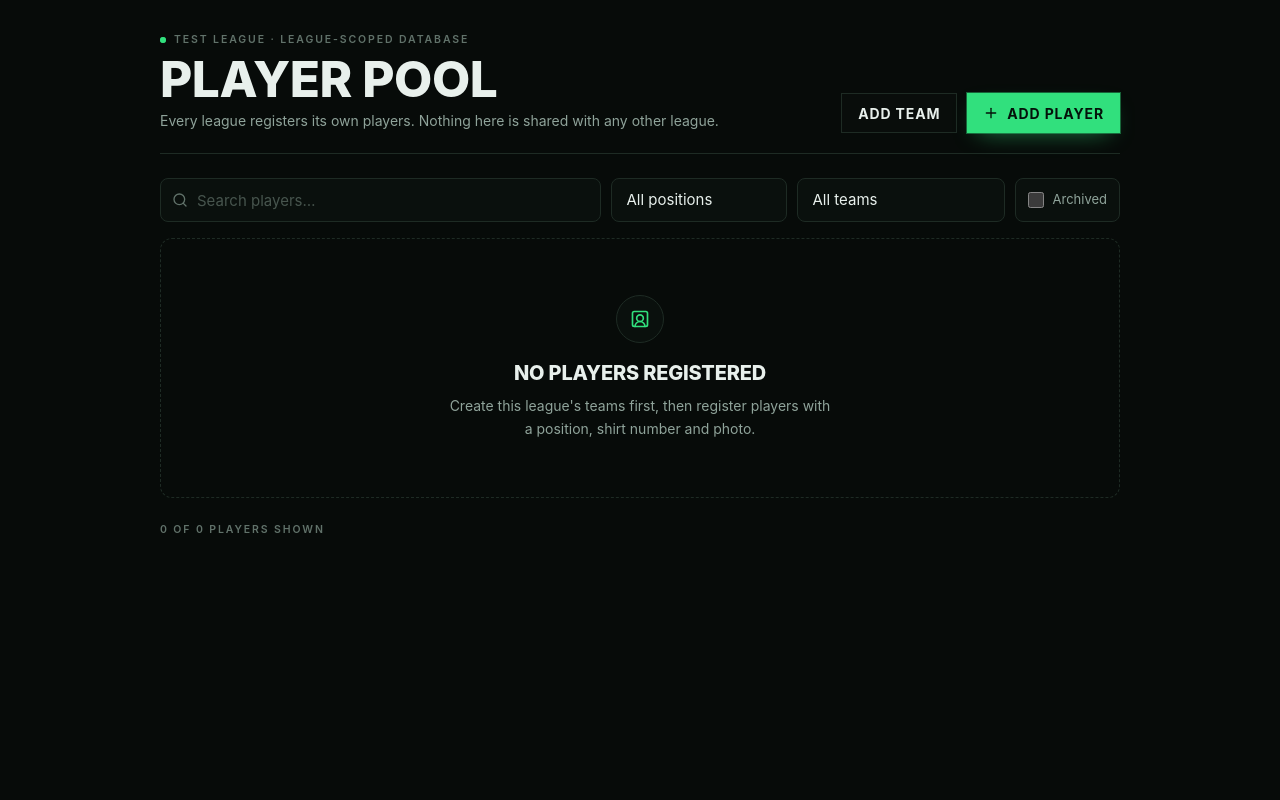
player and team creation UI › never shows success for an unconfirmed or forbidden player response 0
Click the button "Add player": (1044, 113) 967,93 -> 1120,133
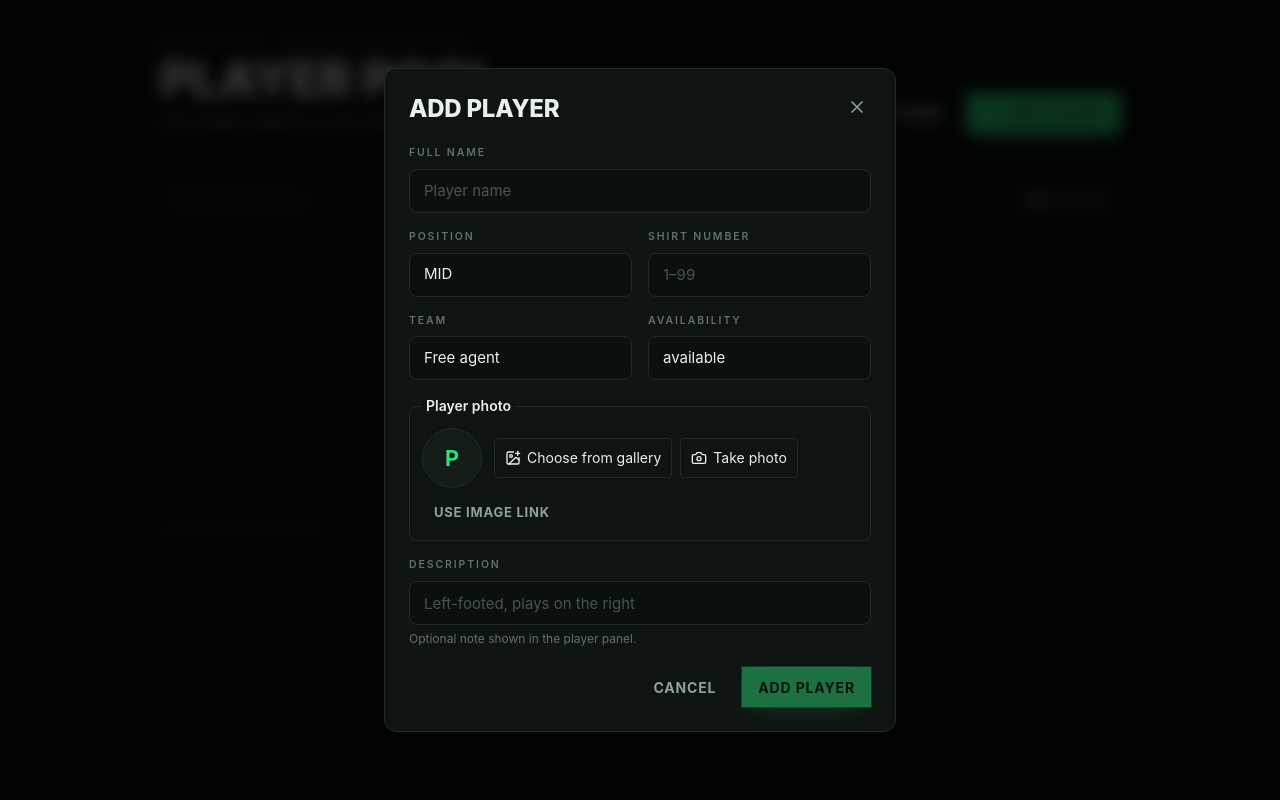
In the field with placeholder "Player name": (640, 191) 409,169 -> 871,213, type "Ada Footballer"
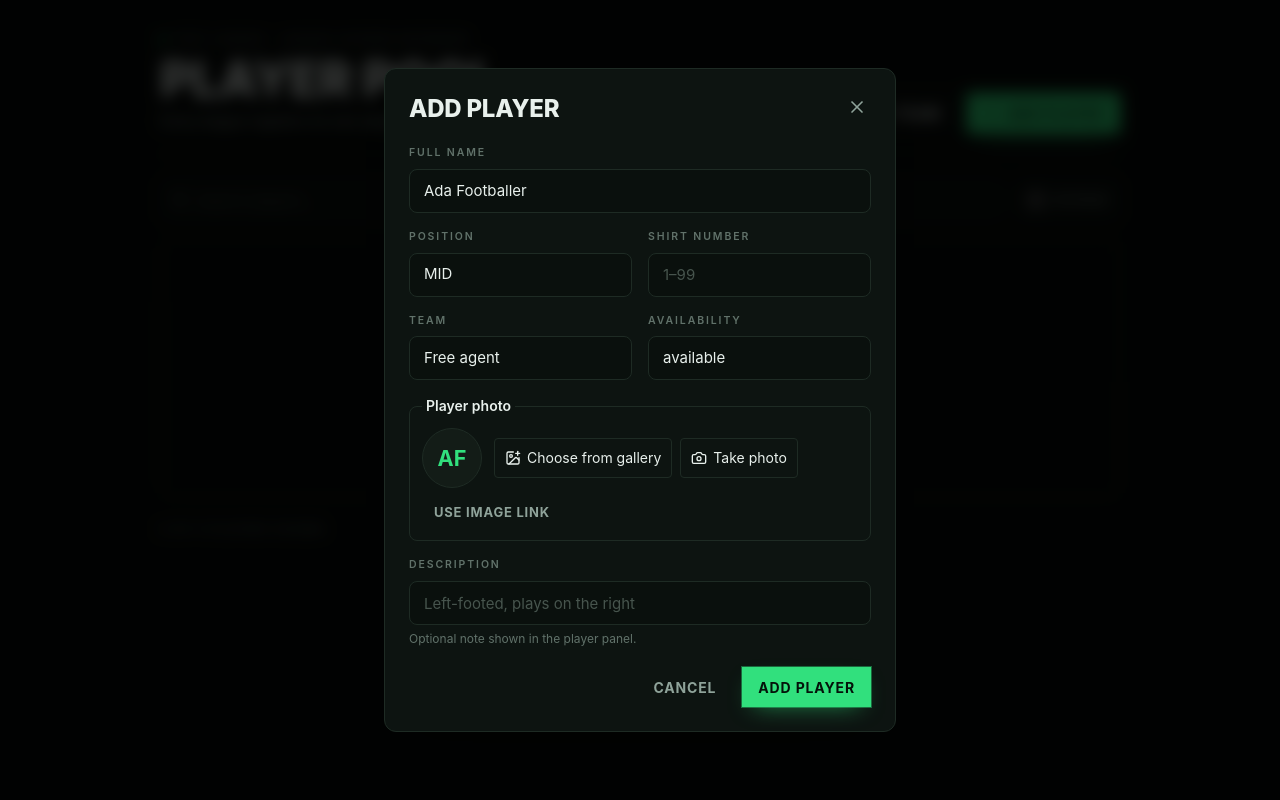
Click the button "Add player": (807, 687) 742,667 -> 871,707
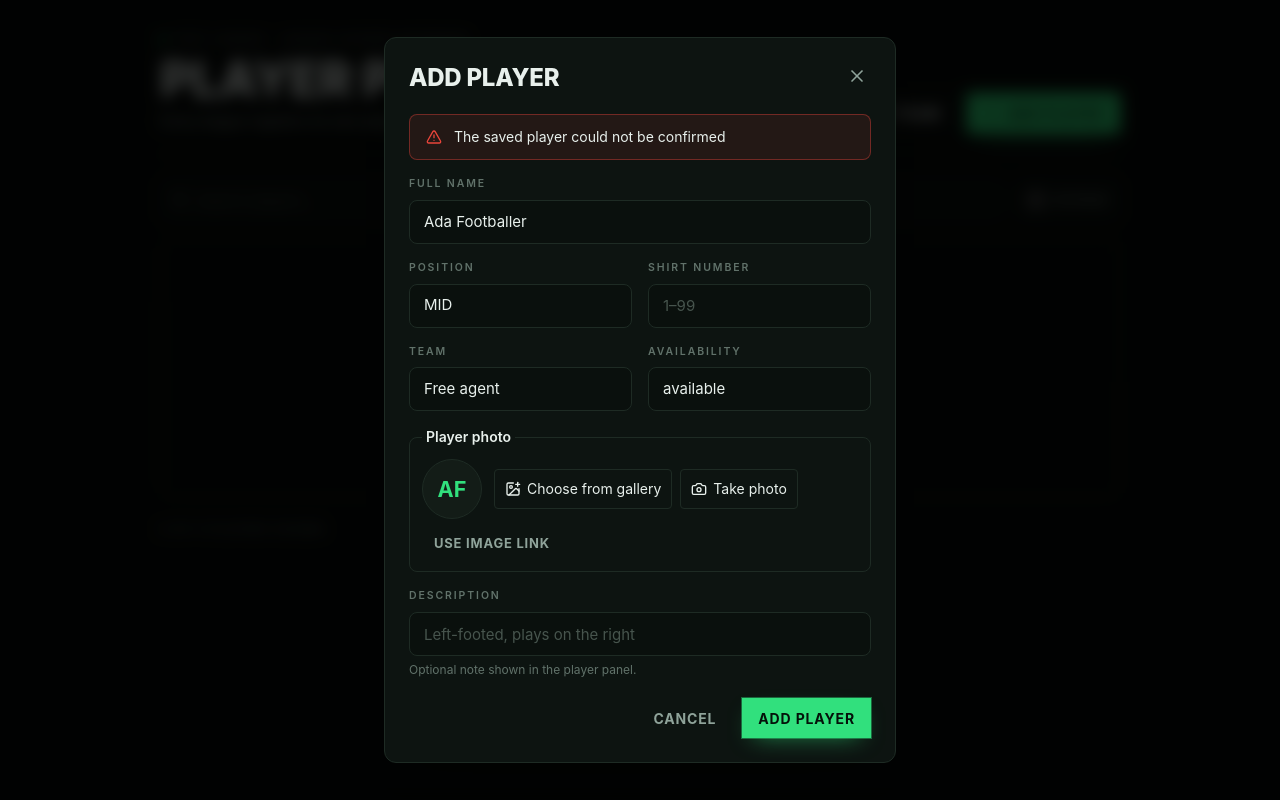
Check: the dialog is shown, box 384,37 -> 896,763
Check: the text "The saved player could not be confirmed" is shown, box 454,128 -> 726,145
